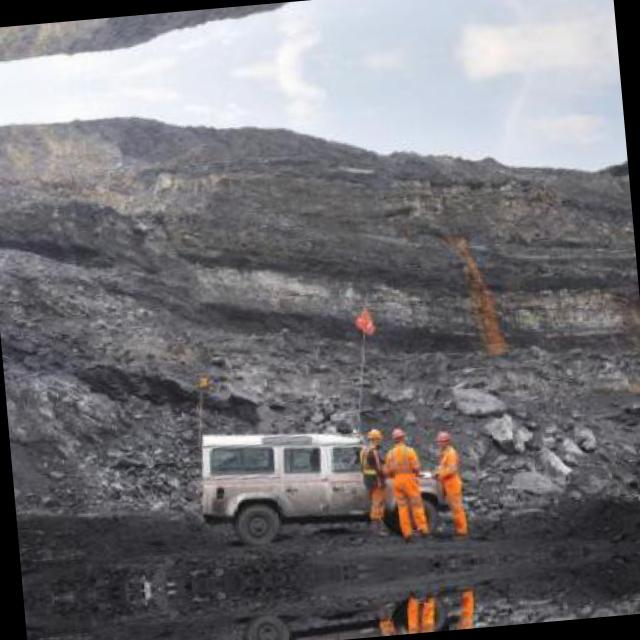helmet: (431, 428, 453, 454), (364, 424, 386, 450), (387, 423, 409, 448)
